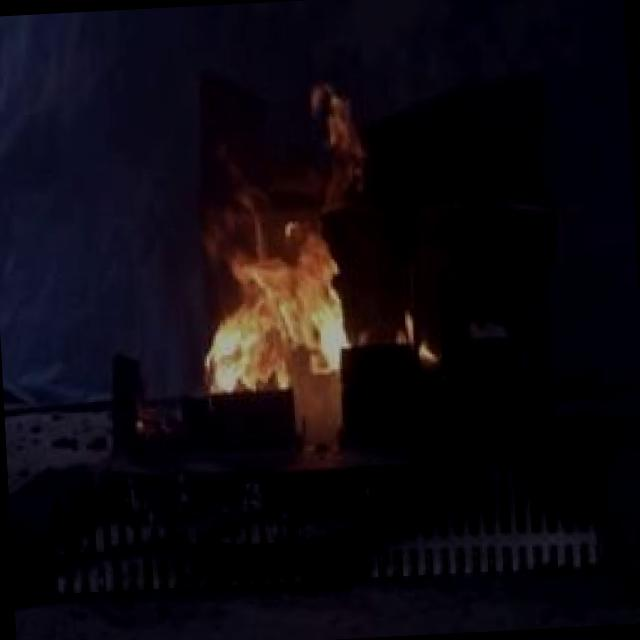fire: (180, 144, 377, 445)
